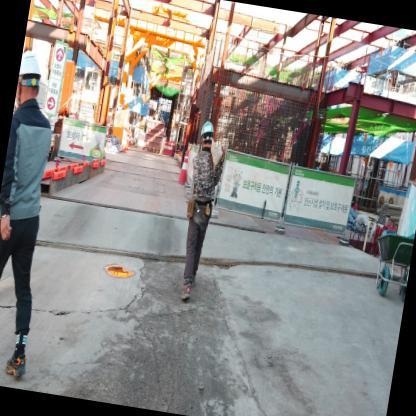safety-shoe: (0, 350, 30, 384), (175, 277, 198, 306)
